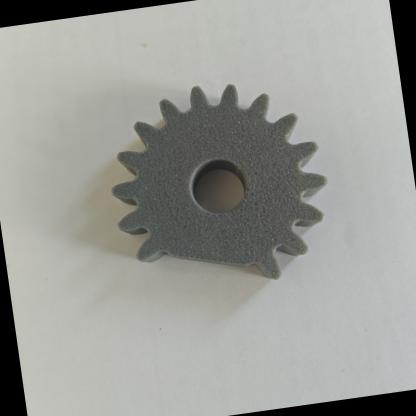defect: (130, 222, 283, 316)
gear: (80, 62, 354, 364)
